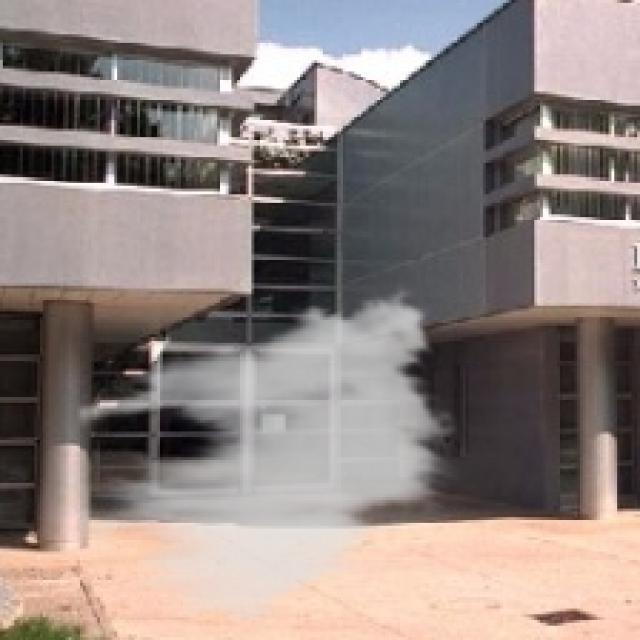Smoke: (77, 280, 460, 634)
